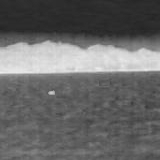Target: (47, 90, 56, 96)
